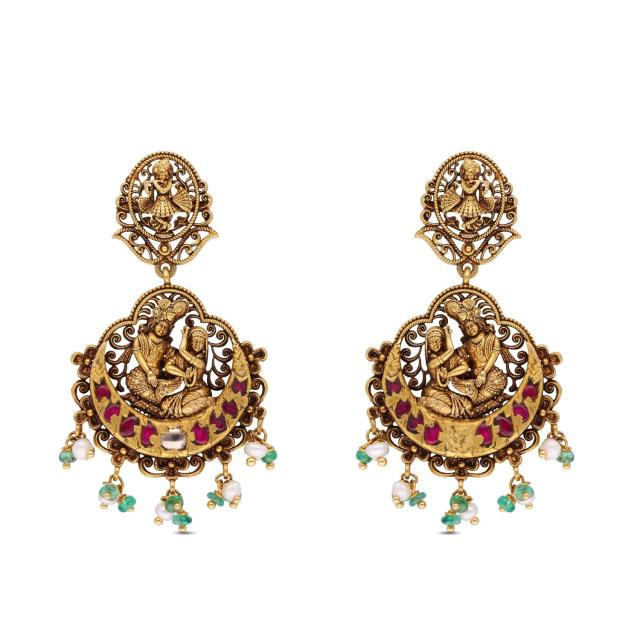missing gem: (447, 432, 473, 451)
